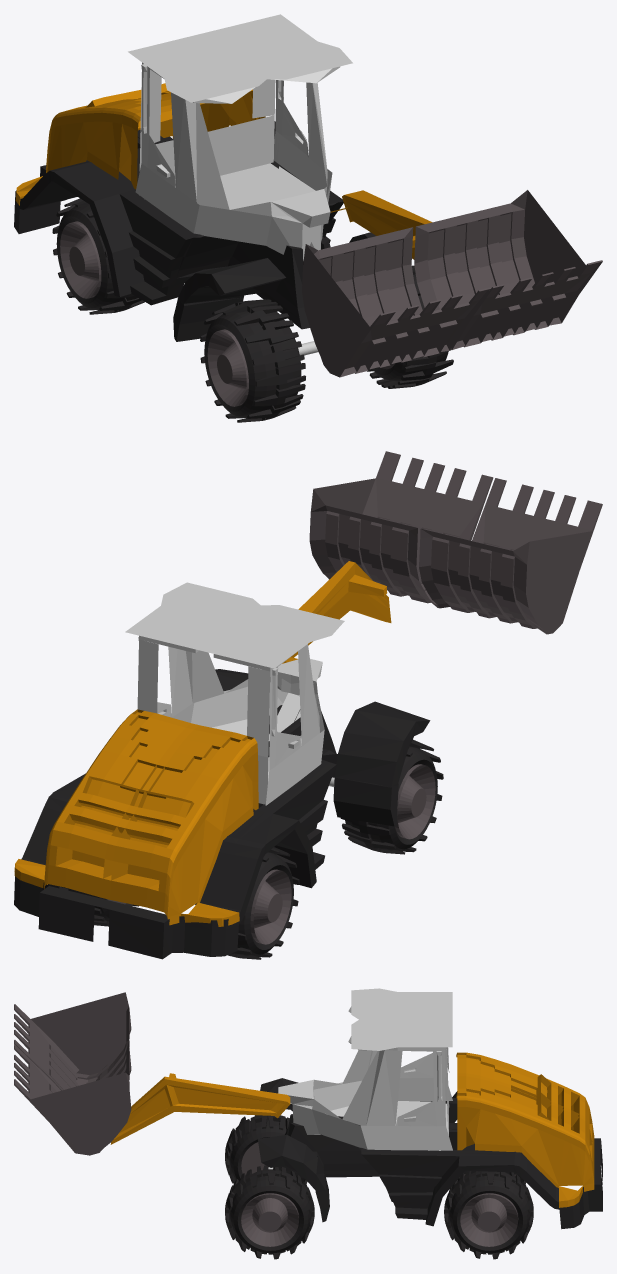
Rendered from LIEBHERRL538NoLiftPistons.dae.
3 views of the same model, one above another, from view 1: azimuth 30°, elevation 25°; view 2: azimuth 150°, elevation 25°; view 3: azimuth 270°, elevation 25° (orthographic). The views are drawn at different scales.
Parts seen in each view (by area): view 1: Cab, loaderBucket, Chassis, BackHood, rightTopTire, rightBackTire, backLeftRim_001, backLeftRim, LoaderLiftArm, leftTopTire; view 2: BackHood, loaderBucket, Chassis, Cab, LoaderLiftArm, rightTopTire, backLeftRim_001, backLeftRim, rightBackTire; view 3: Cab, loaderBucket, Chassis, BackHood, LoaderLiftArm, leftTopTire, leftBackTire, rightLeftRim, backLeftRim_002, rightTopTire, backLeftRim.
Part boxes in pixels (bbox=[...]): Cab: bbox=[128, 14, 352, 260]; loaderBucket: bbox=[302, 190, 602, 377]; Chassis: bbox=[14, 121, 375, 341]; BackHood: bbox=[15, 83, 265, 205]; rightTopTire: bbox=[200, 299, 305, 422]; rightBackTire: bbox=[52, 198, 144, 314]; backLeftRim_001: bbox=[60, 221, 101, 298]; backLeftRim: bbox=[207, 329, 248, 406]; LoaderLiftArm: bbox=[330, 190, 432, 259]; leftTopTire: bbox=[367, 265, 453, 388]; BackHood: bbox=[14, 709, 258, 926]; loaderBucket: bbox=[309, 451, 602, 634]; Chassis: bbox=[14, 669, 430, 959]; Cab: bbox=[125, 582, 344, 805]; LoaderLiftArm: bbox=[282, 561, 391, 663]; rightTopTire: bbox=[340, 739, 443, 854]; backLeftRim_001: bbox=[250, 869, 291, 944]; backLeftRim: bbox=[395, 764, 435, 839]; rightBackTire: bbox=[228, 847, 299, 959]; Cab: bbox=[278, 988, 452, 1150]; loaderBucket: bbox=[14, 992, 131, 1155]; Chassis: bbox=[258, 1078, 602, 1229]; BackHood: bbox=[456, 1052, 594, 1207]; LoaderLiftArm: bbox=[110, 1073, 290, 1144]; leftTopTire: bbox=[225, 1165, 314, 1259]; leftBackTire: bbox=[444, 1170, 533, 1259]; rightLeftRim: bbox=[241, 1193, 298, 1246]; backLeftRim_002: bbox=[460, 1193, 518, 1246]; rightTopTire: bbox=[225, 1114, 307, 1183]; backLeftRim: bbox=[241, 1142, 265, 1174].
Bounding box in the file's own units: 6.92 × 20.32 × 7.84.
